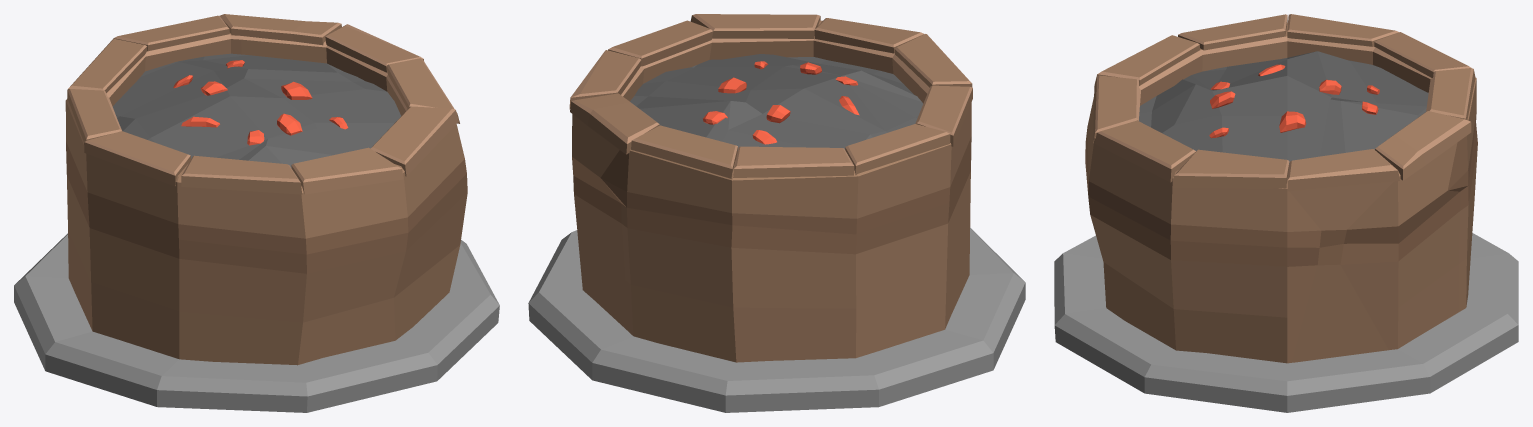
File: Firepit.fbx
The picture shows the model from 3 angles, left to right: view 1: azimuth 30°, elevation 25°; view 2: azimuth 150°, elevation 25°; view 3: azimuth 270°, elevation 25°; orthographic projection. The views are drawn at different scales.
Parts seen in each view (by area): view 1: Firepit, Coal_OFF, Ember; view 2: Firepit, Coal_OFF, Ember; view 3: Firepit, Coal_OFF, Ember.
Part boxes in pixels (left/top/right/bottom): Firepit: left=14, top=14, right=499, bottom=412; Coal_OFF: left=113, top=53, right=400, bottom=167; Ember: left=173, top=60, right=348, bottom=145; Firepit: left=528, top=14, right=1025, bottom=412; Coal_OFF: left=630, top=54, right=922, bottom=150; Ember: left=703, top=61, right=859, bottom=144; Firepit: left=1054, top=14, right=1518, bottom=412; Coal_OFF: left=1139, top=51, right=1428, bottom=164; Ember: left=1209, top=64, right=1379, bottom=138.
Bounding box in the file's own units: 254 × 133 × 243.
